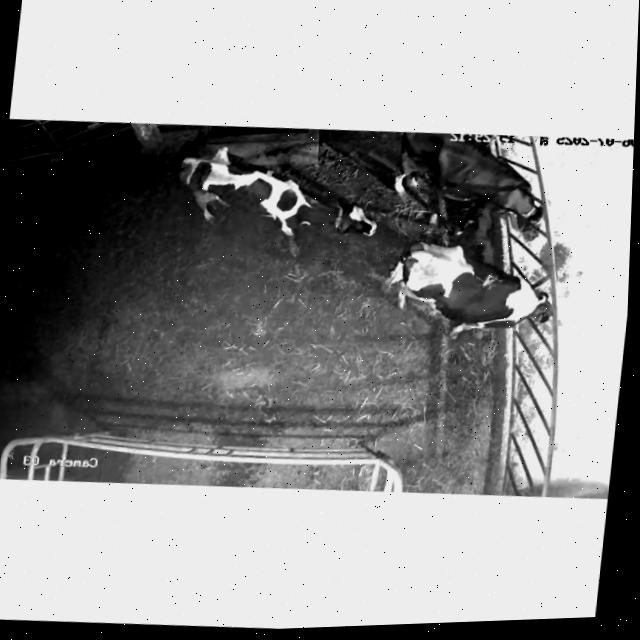stand: (158, 134, 388, 257)
